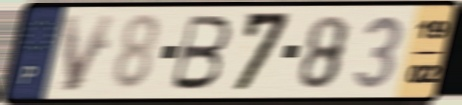3: (352, 12, 407, 92)
7: (232, 10, 293, 95)
8: (109, 11, 163, 94), (297, 13, 351, 91)
B: (167, 13, 234, 93)
V: (61, 11, 120, 95)
